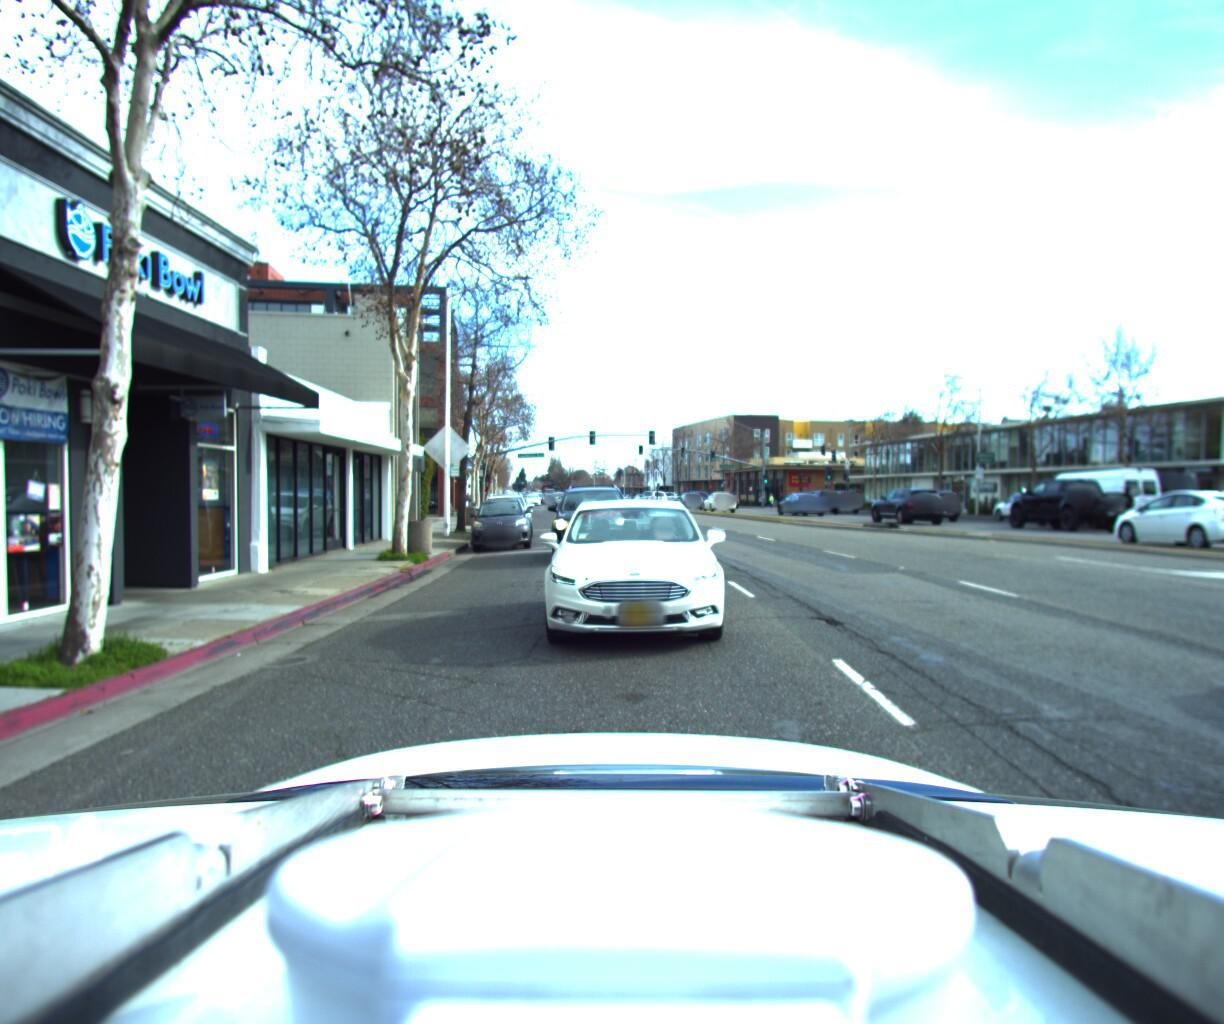car: (524, 489, 728, 664), (1019, 463, 1160, 527), (1088, 484, 1224, 544), (989, 472, 1123, 527), (544, 482, 625, 562), (467, 492, 530, 548), (860, 482, 946, 520), (989, 483, 1064, 519), (473, 487, 531, 533), (885, 482, 957, 513), (770, 484, 820, 508), (793, 480, 840, 506), (813, 482, 858, 505), (695, 484, 733, 505), (548, 487, 594, 502), (673, 483, 701, 502)
